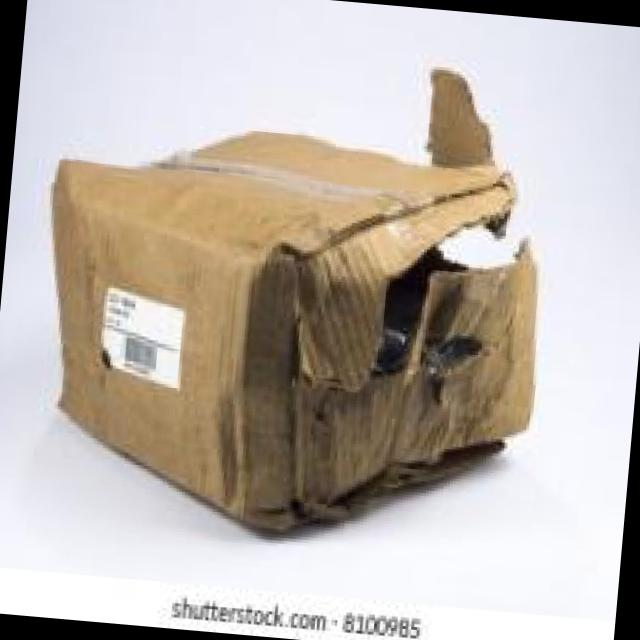box: (129, 144, 503, 486)
